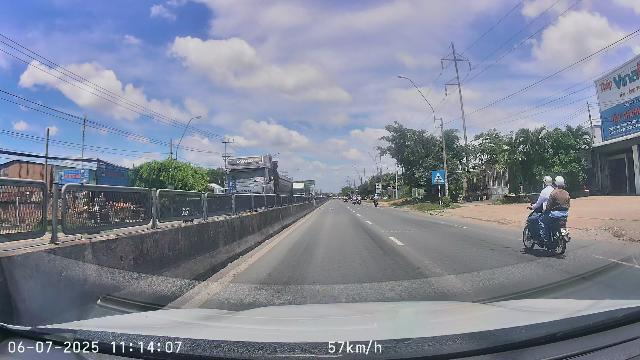423a-duong-nguoi-di-bo-sang-ngang-1: (432, 171, 444, 183)
